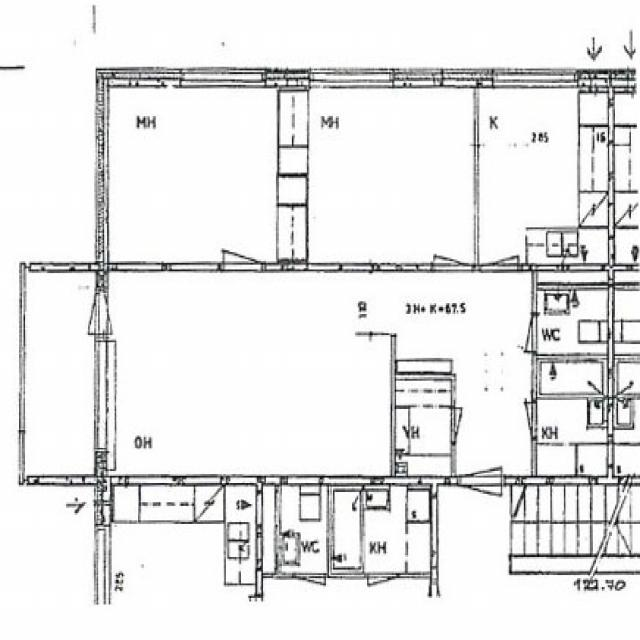door: (460, 475, 501, 534), (460, 425, 501, 484), (58, 289, 108, 333), (95, 289, 145, 333), (223, 216, 261, 272), (432, 217, 470, 272), (481, 217, 519, 272), (499, 313, 536, 351), (500, 402, 536, 439), (450, 407, 486, 442)
